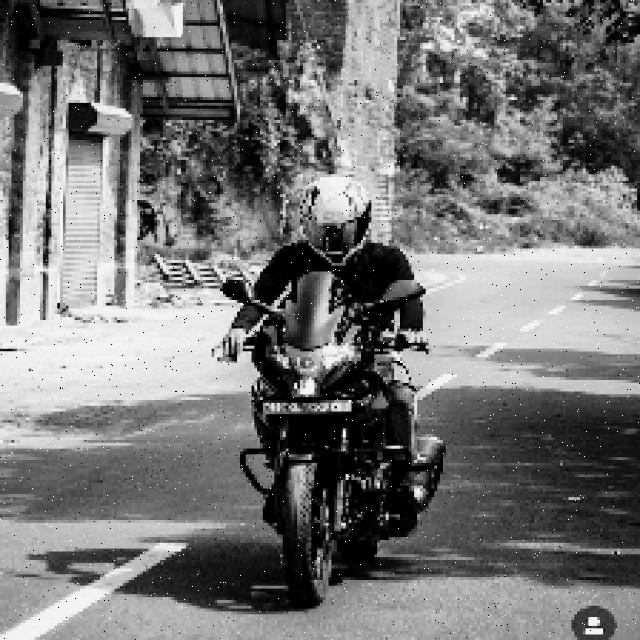Bike: (242, 269, 441, 620)
